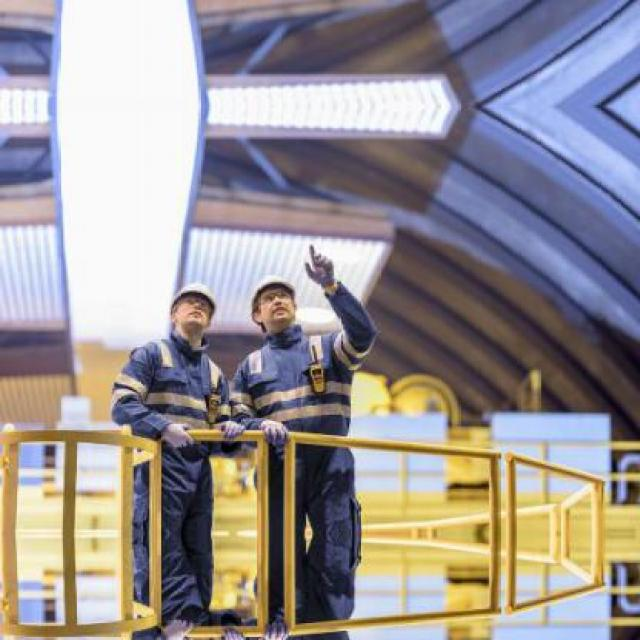Reflective-Jacket: (106, 338, 232, 464), (232, 333, 345, 449)
Safety-Helmet: (157, 273, 225, 325), (242, 268, 308, 320)
